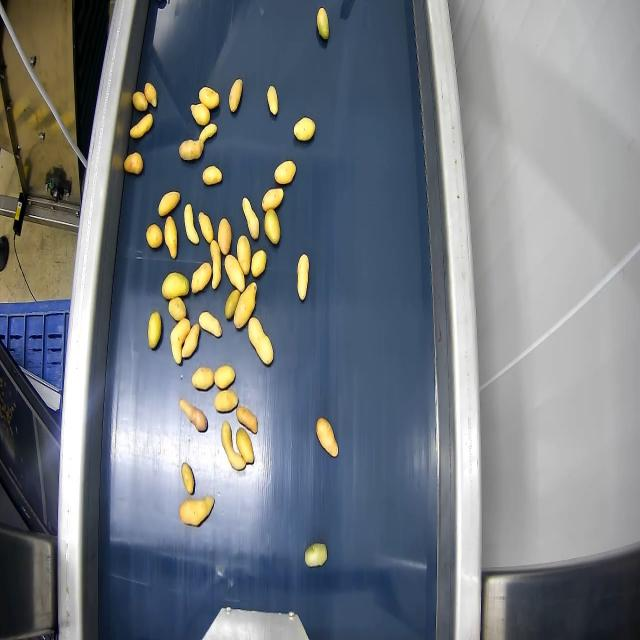Baby Potato: (248, 317, 273, 365), (222, 421, 245, 471), (179, 496, 213, 526), (234, 282, 256, 328), (170, 319, 190, 364), (179, 399, 207, 431), (316, 418, 338, 457), (162, 272, 189, 301), (225, 254, 244, 292), (242, 198, 259, 239), (236, 427, 254, 463), (191, 263, 211, 294), (184, 203, 199, 244), (182, 323, 199, 359), (264, 209, 280, 245), (236, 406, 257, 433), (164, 216, 177, 259), (214, 390, 238, 413), (130, 113, 152, 138), (199, 312, 221, 337), (297, 255, 309, 300), (210, 240, 221, 289), (158, 192, 180, 216), (237, 235, 250, 275), (305, 544, 327, 567), (294, 117, 315, 141), (214, 365, 235, 389), (274, 160, 295, 184), (148, 311, 161, 349), (262, 188, 283, 211), (218, 218, 231, 255), (179, 140, 203, 160), (192, 369, 214, 390), (199, 87, 219, 110), (190, 103, 210, 126), (168, 297, 186, 322), (225, 289, 240, 319), (124, 152, 143, 175), (251, 249, 266, 278), (199, 212, 213, 243), (229, 79, 242, 112), (181, 464, 194, 495), (146, 224, 162, 248), (202, 166, 222, 185), (199, 123, 217, 143), (317, 8, 328, 40), (144, 82, 156, 107), (267, 86, 277, 115), (132, 93, 147, 111)
